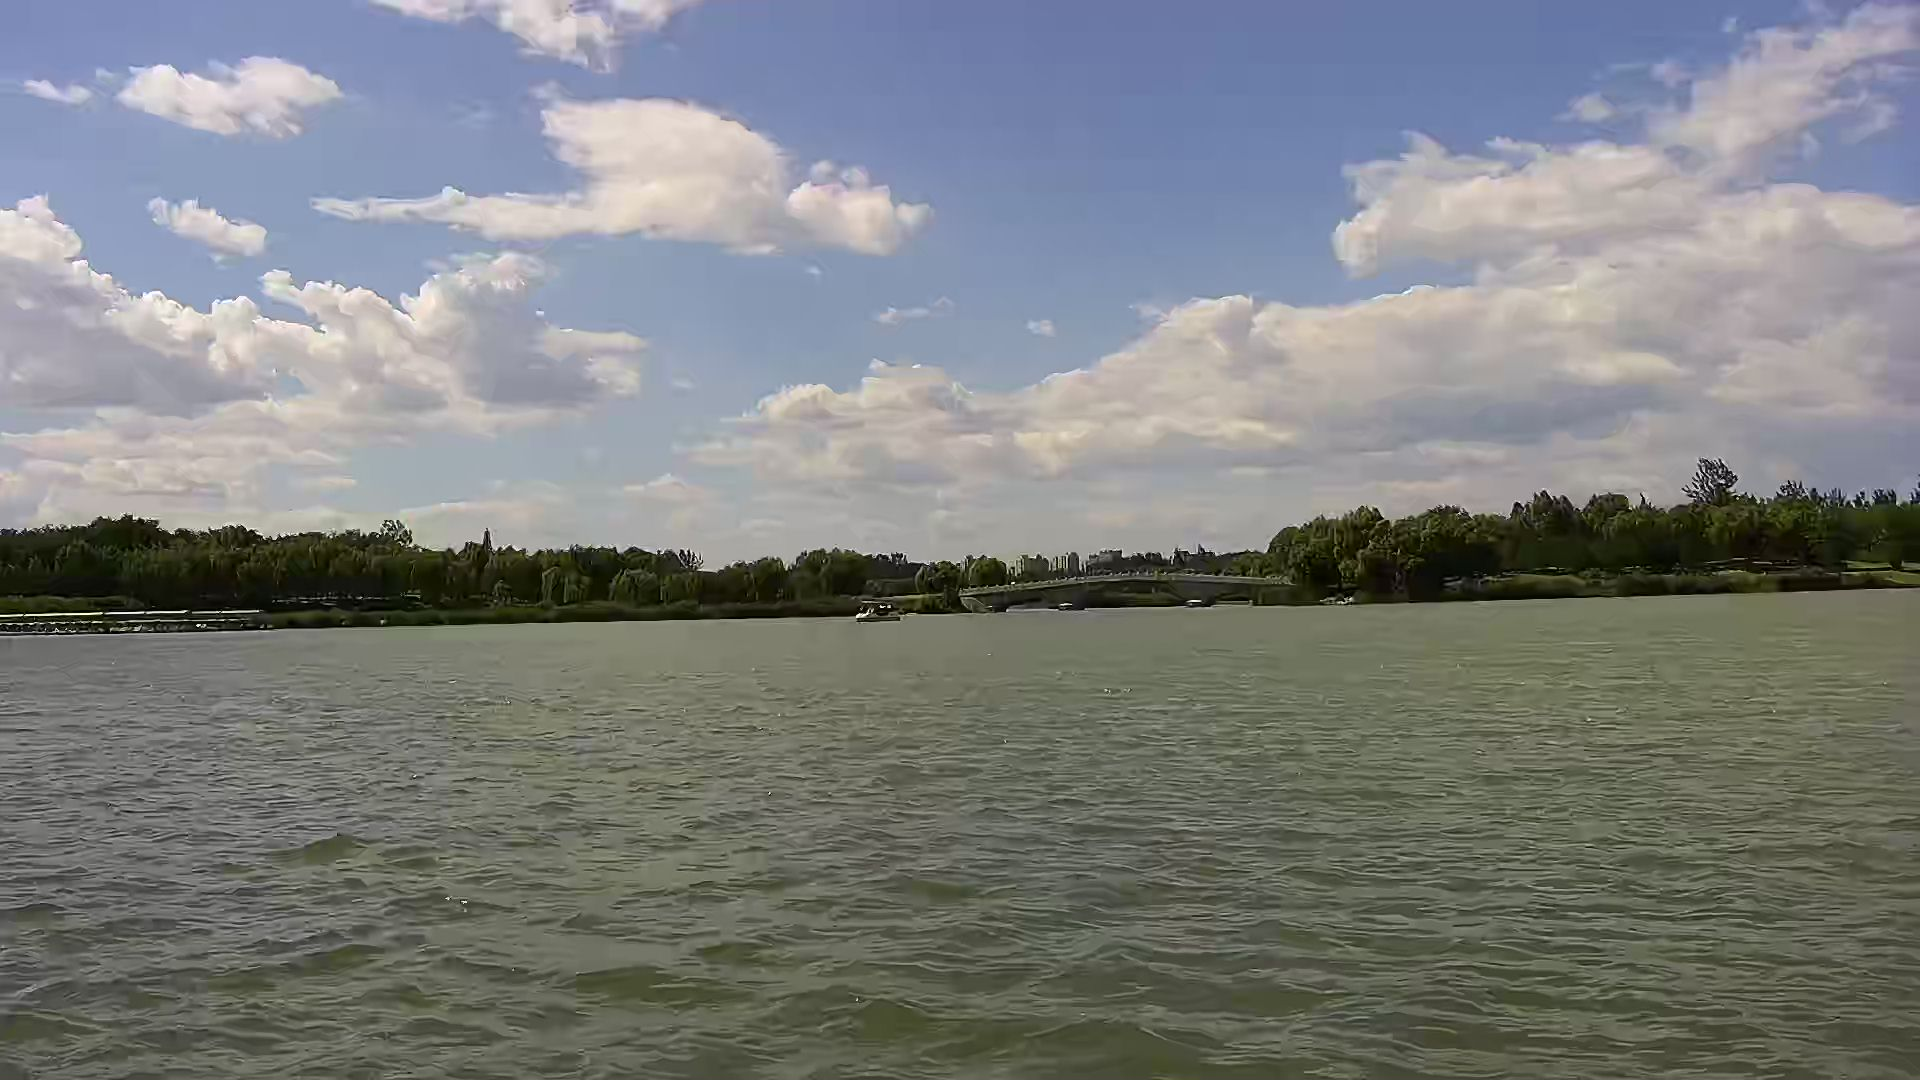boat: (848, 597, 905, 622)
bridge: (967, 575, 1300, 608), (4, 611, 262, 632)
